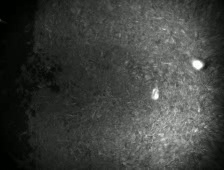corn: (190, 56, 206, 73), (149, 86, 163, 101)
